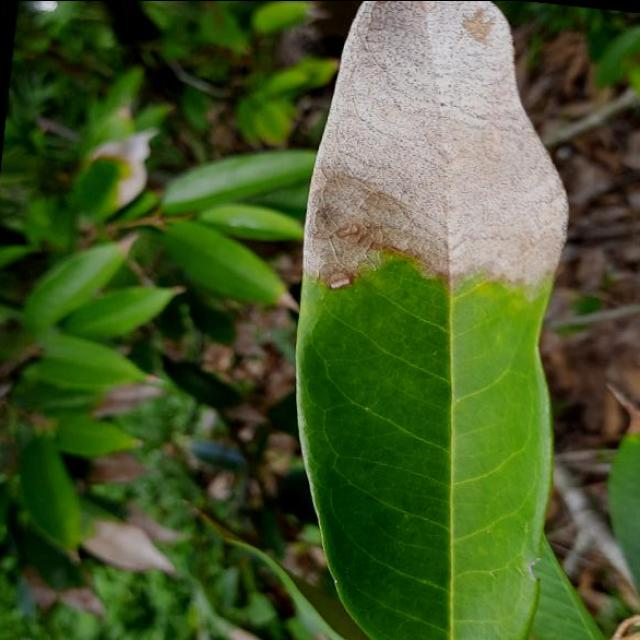Leaf Blight: (251, 0, 618, 640)
